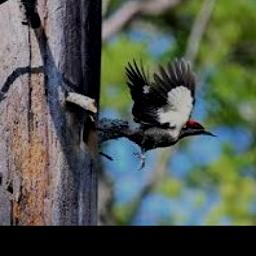Woodpecker: (92, 57, 219, 170)
